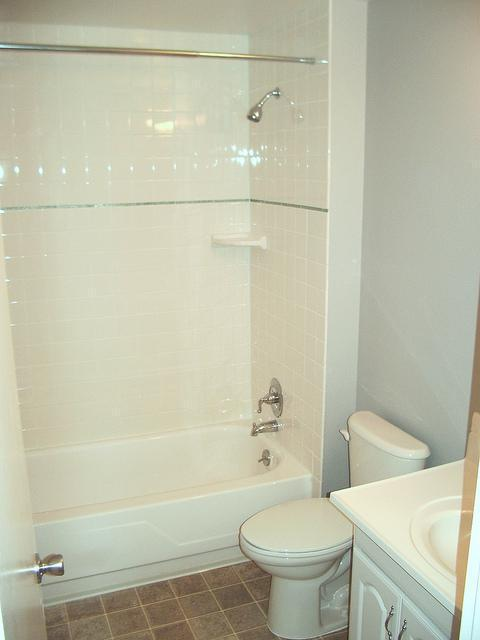Ducha: (216, 48, 330, 514)
Lavamanos: (388, 477, 479, 624)
